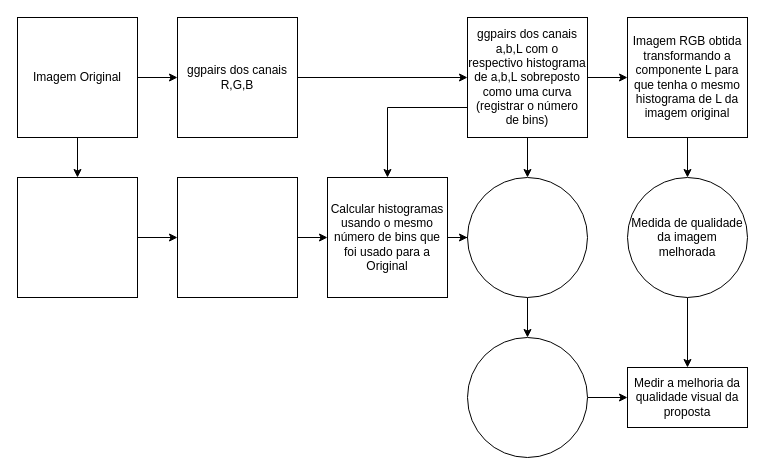
This 765x475 diagram has some shape labels left out. Each missing label, with the centre of its shape:
Bandas RGB da Imagem de Referência: point 77,237
distância de Hellinger da imagem original à imagem ideal: point 527,237
Imagem de Referência em formato a,b,L: point 237,237
Medida de qualidade da imagem original em (0,1): point 527,397
